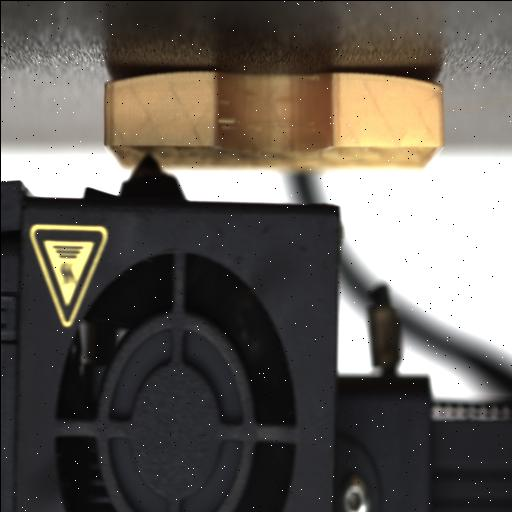warp: (330, 71, 442, 103), (98, 65, 218, 93)
